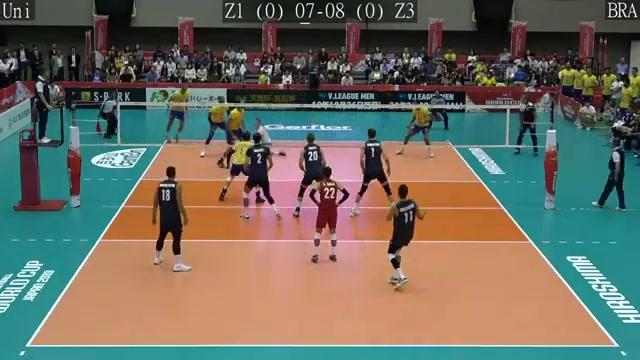ball: (259, 72, 268, 85)
